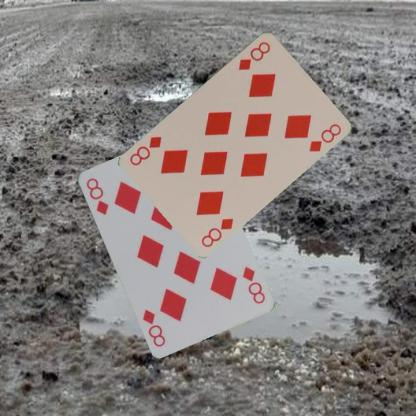8d: (236, 38, 272, 72), (198, 215, 235, 248), (83, 175, 110, 217), (239, 264, 266, 305)
